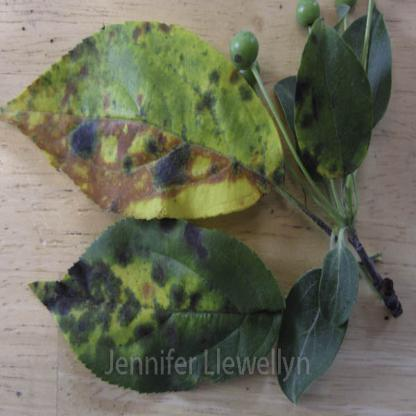apple scab leaf: (1, 11, 299, 234), (20, 204, 280, 398)
